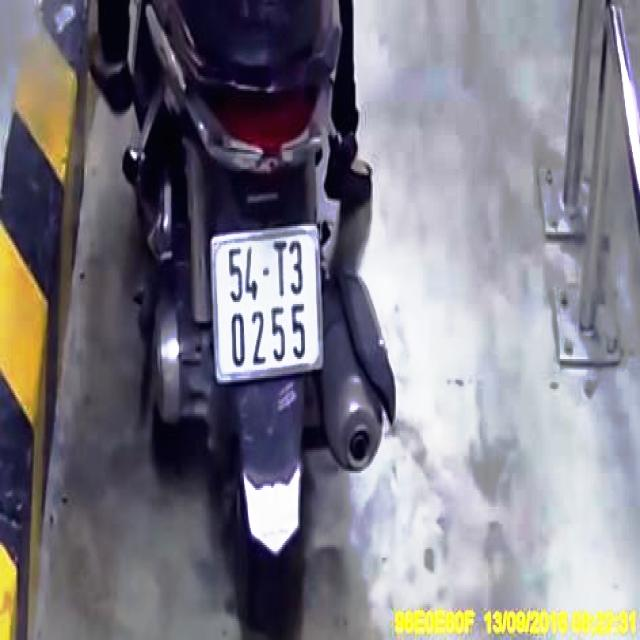license_plate: (212, 230, 324, 379)
